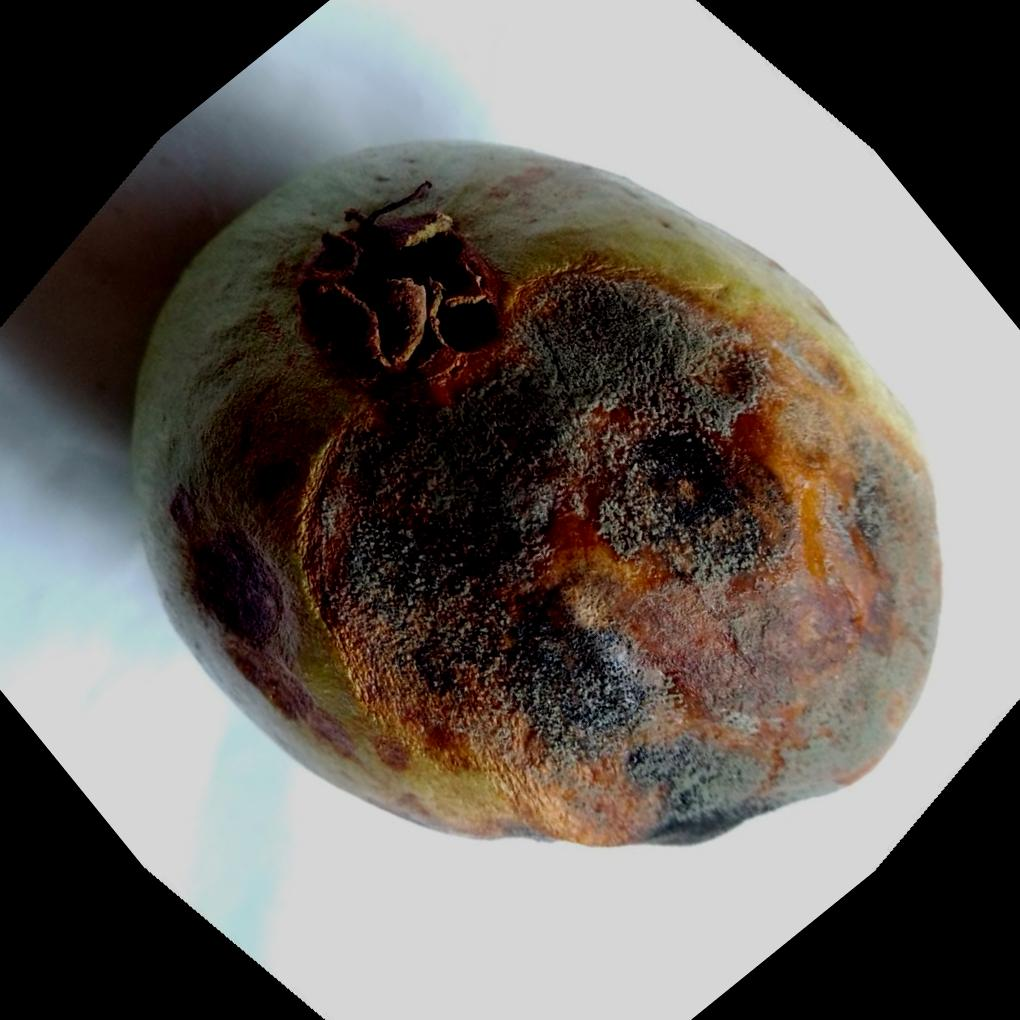FreshOrange: (124, 139, 944, 852)
